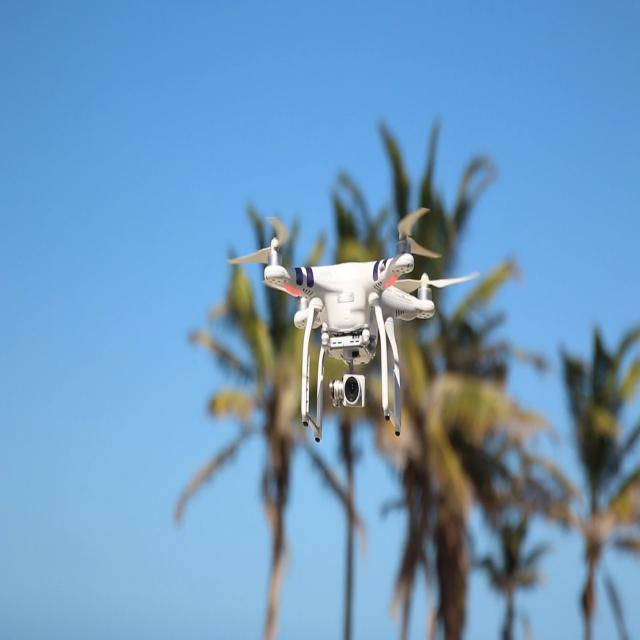Drone: (216, 189, 479, 458)
